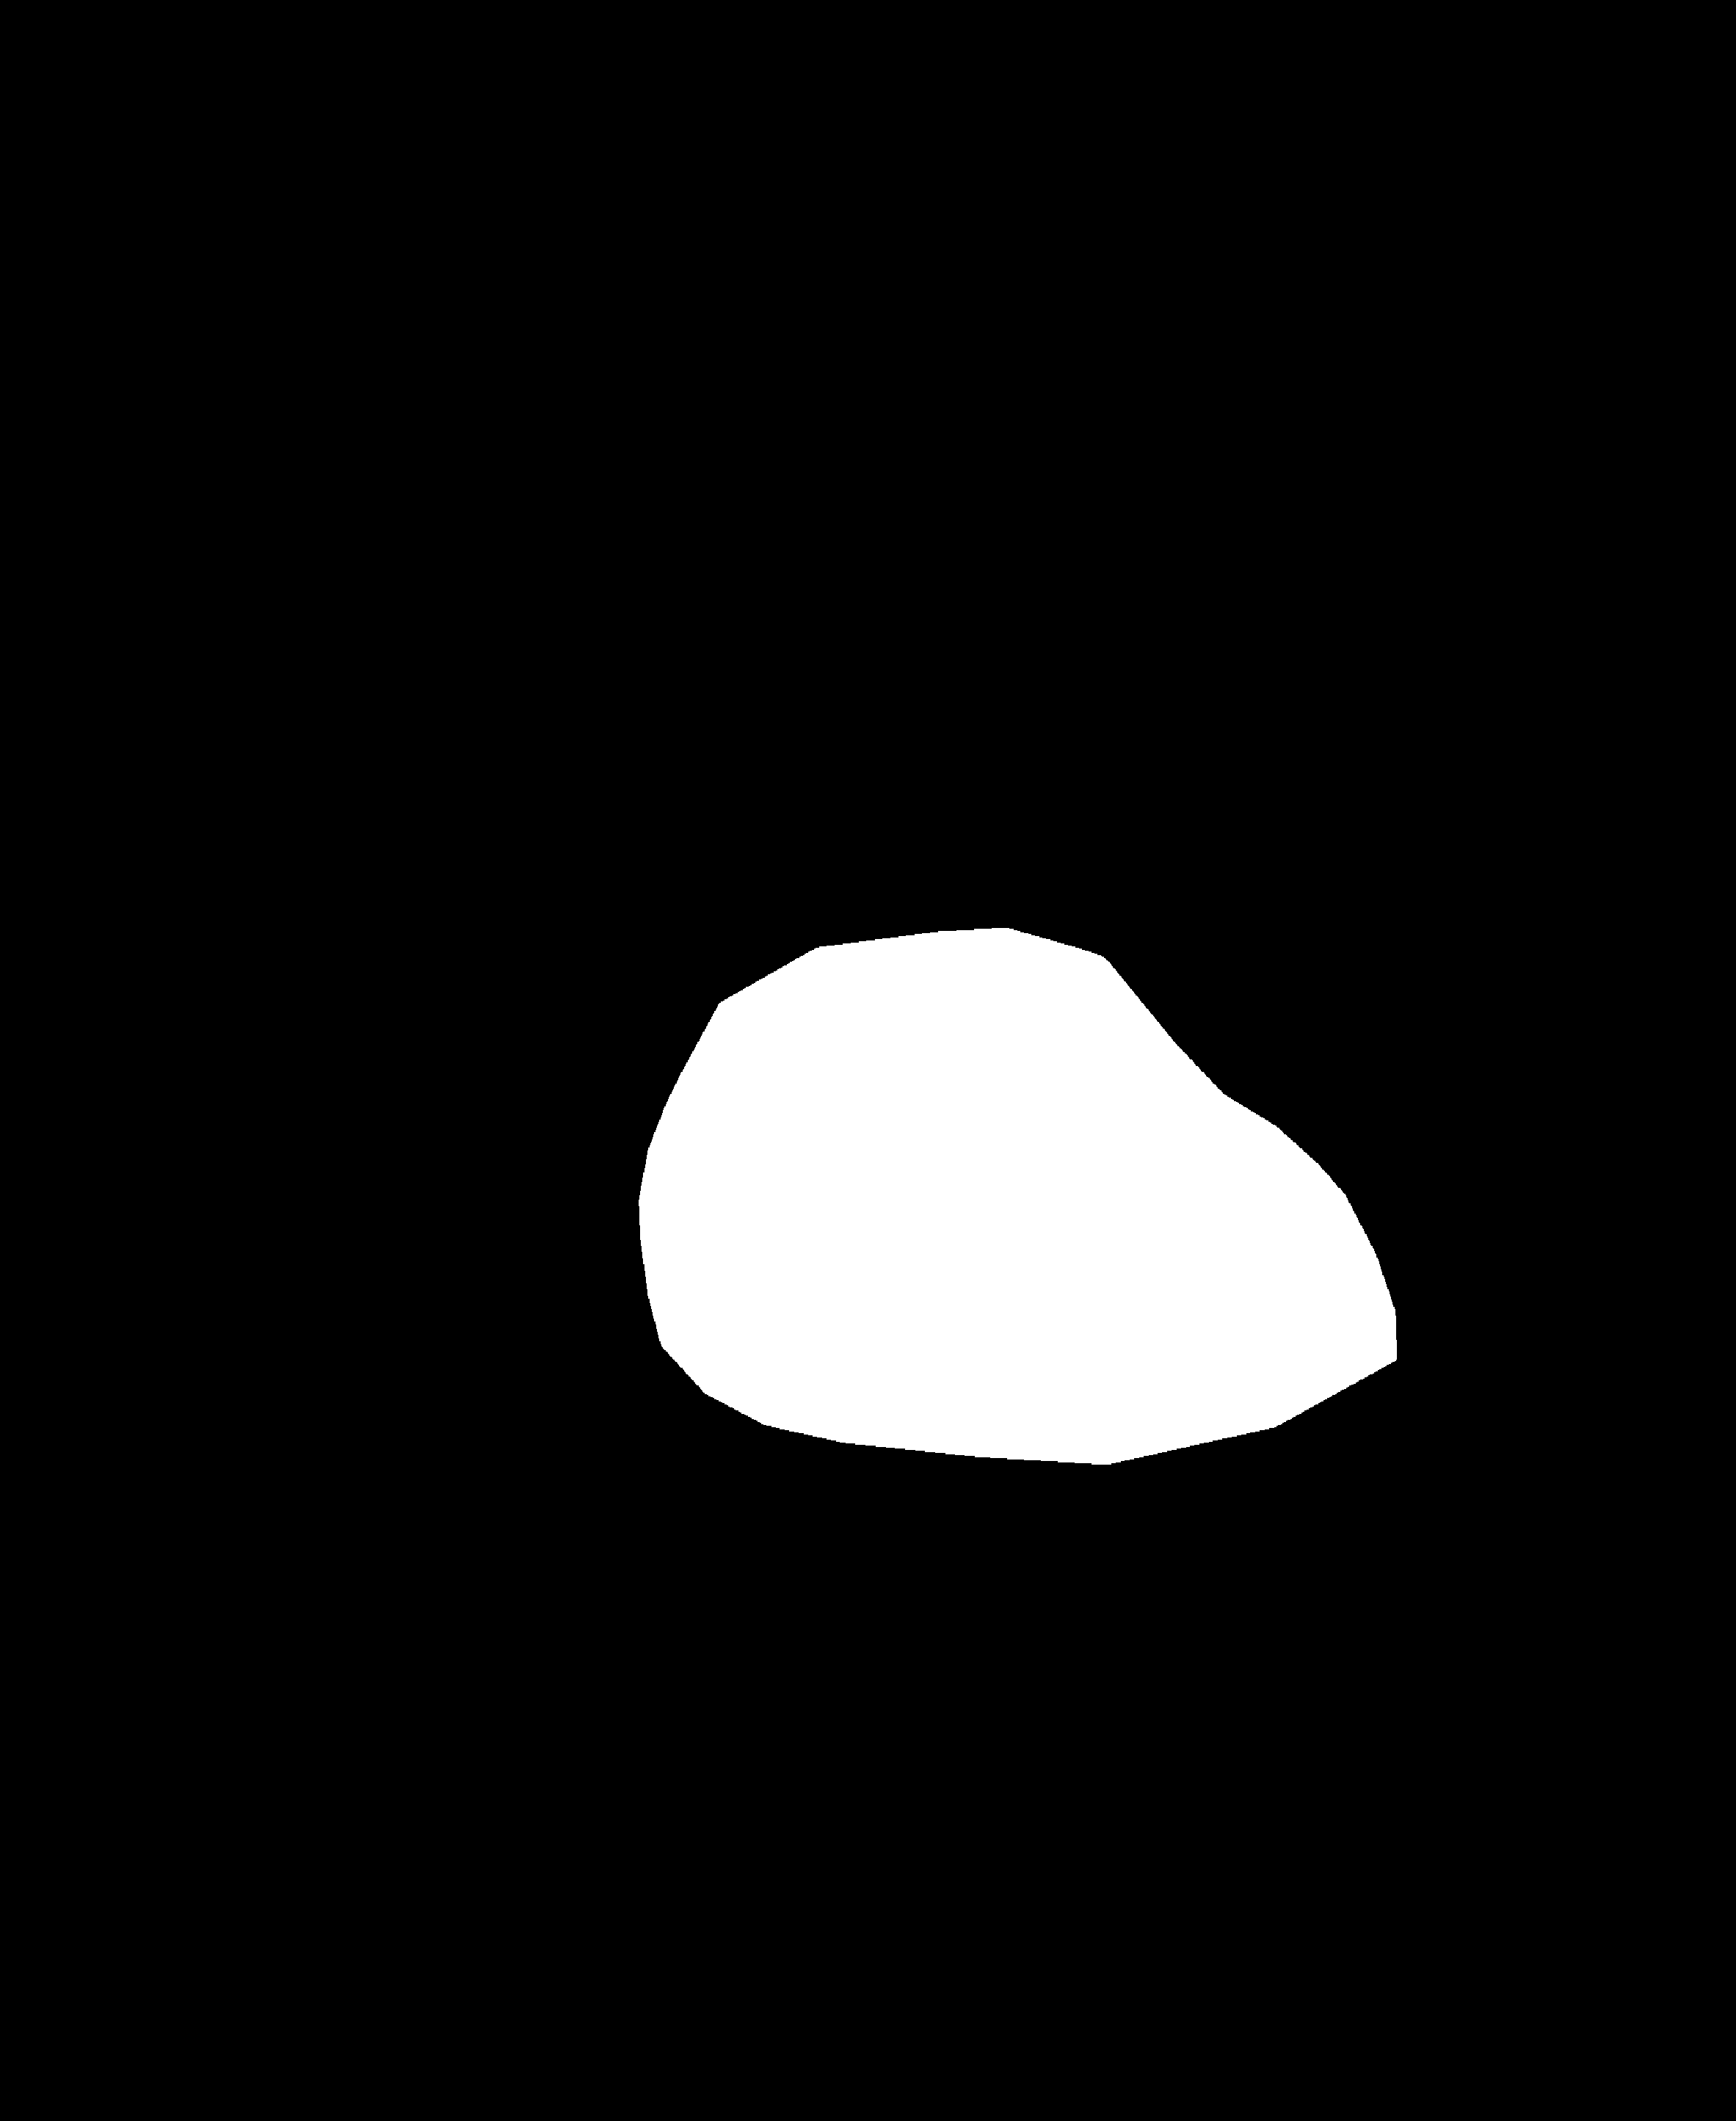heart: (644, 979, 1414, 1474)
left_lung: (125, 284, 785, 1552)
right_lung: (984, 261, 1595, 1467)
